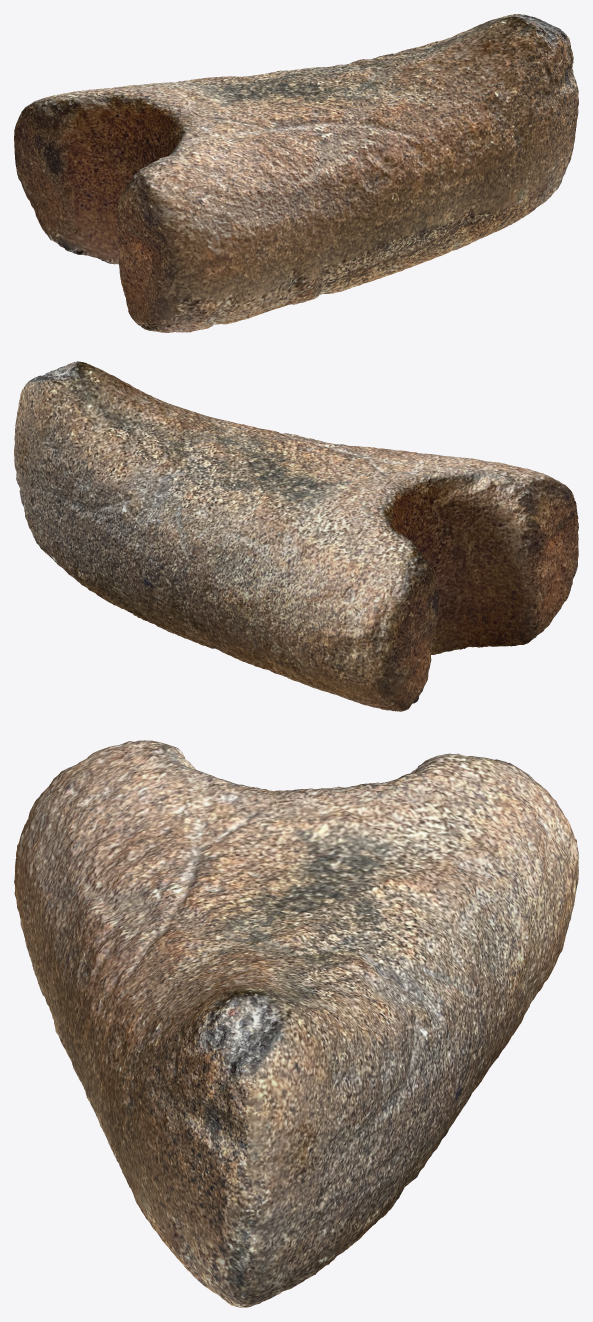
Rendered from stone_axe.glb.
3 renders of one model, top to bottom at view 1: azimuth 30°, elevation 25°; view 2: azimuth 150°, elevation 25°; view 3: azimuth 270°, elevation 25°, orthographic. The views are drawn at different scales.
Parts seen in each view (by area): view 1: Object_2; view 2: Object_2; view 3: Object_2.
Part boxes in pixels (left/top/right/bottom): Object_2: left=14, top=14, right=578, bottom=332; Object_2: left=14, top=361, right=578, bottom=711; Object_2: left=14, top=740, right=578, bottom=1307.
Bounding box in the file's own units: 0.3327 × 0.1362 × 0.2137.
Materials: 1 (1 with a texture image).
